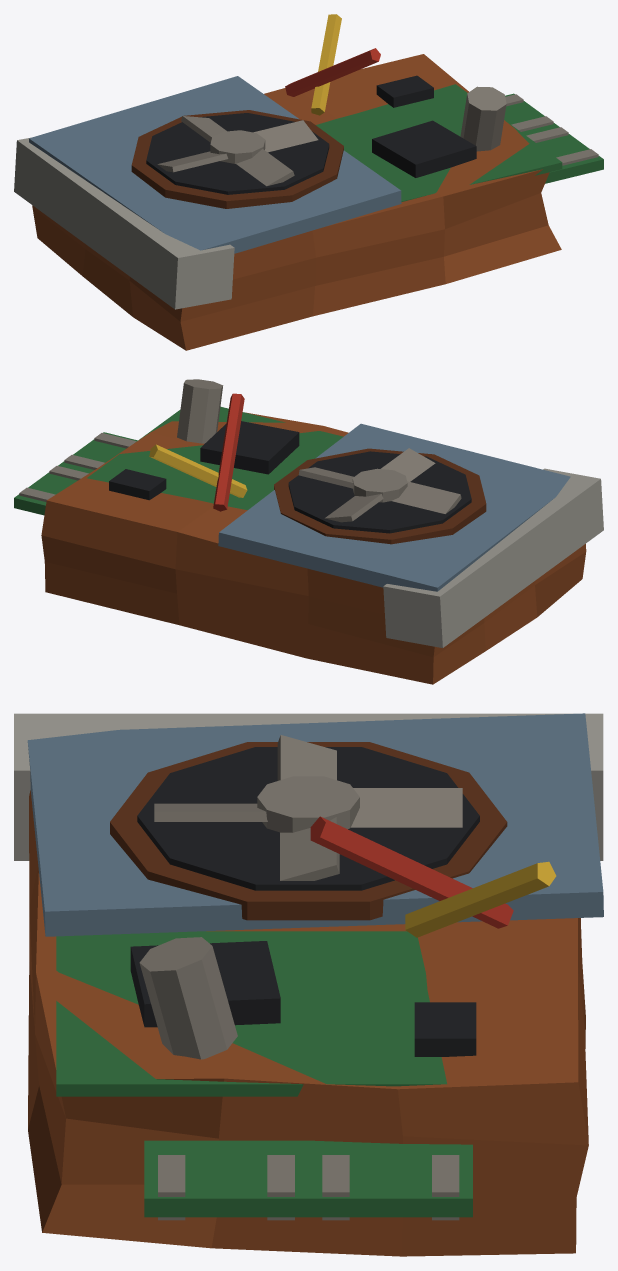
The model's file is compute_scrap.glb.
The picture shows the model from 3 angles, top to bottom: view 1: azimuth 30°, elevation 25°; view 2: azimuth 150°, elevation 25°; view 3: azimuth 270°, elevation 25°; orthographic projection. The views are drawn at different scales.
Parts seen in each view (by area): view 1: compute_scrap; view 2: compute_scrap; view 3: compute_scrap.
Part boxes in pixels (x1,y1,x2,y2): compute_scrap: (14, 14, 603, 350); compute_scrap: (14, 379, 603, 684); compute_scrap: (14, 713, 603, 1256).
Size of the model in its own units: 0.2864 by 0.106 by 0.1722.
